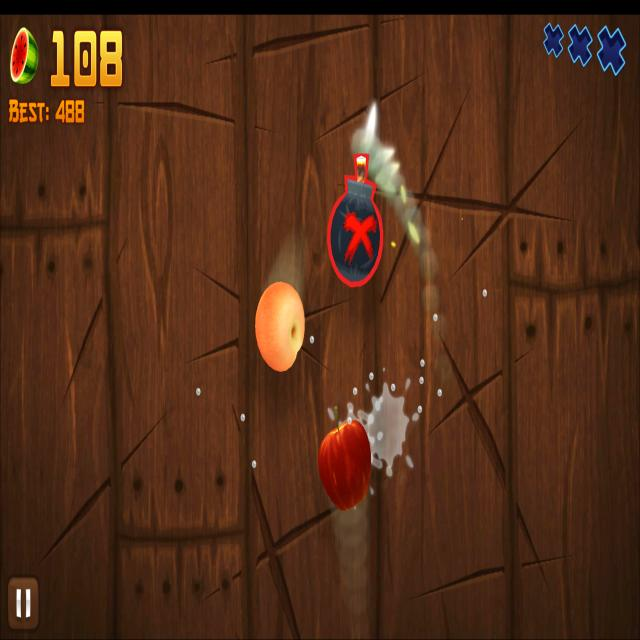bomb: (326, 153, 384, 287)
fruit: (318, 421, 372, 510), (255, 282, 305, 372)
